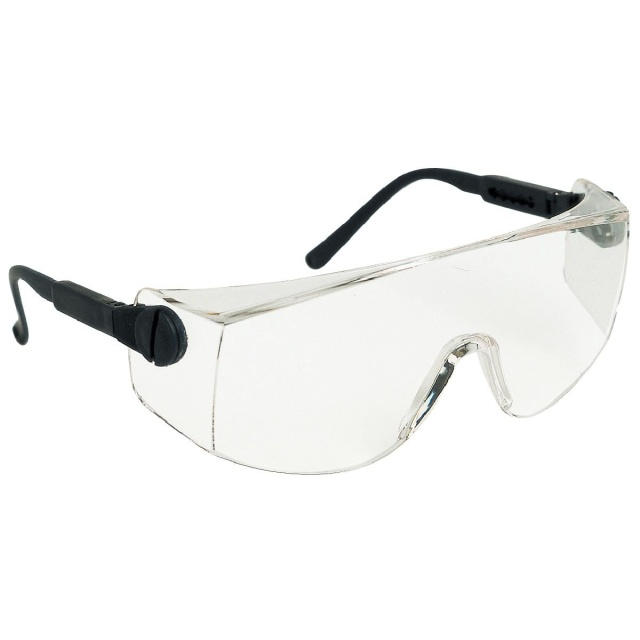Safety_Goggles: (2, 157, 640, 442)
